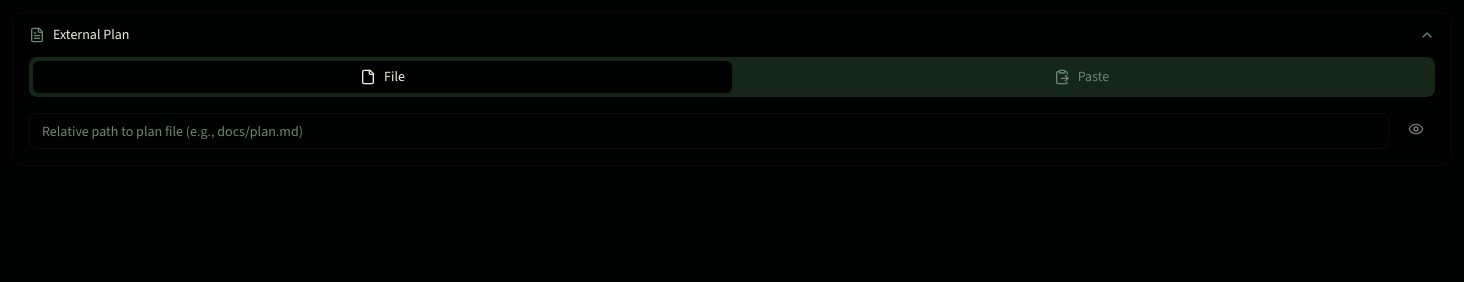
Test: PlanImportSection › file preview (text input fallback) › clears preview and error when file path changes
// First, get a preview
Type "docs/plan.md" into the field with placeholder "Relative path to plan file (e.g., docs/plan.md)" at [709, 131], box top-left (29, 113), bottom-right (1389, 149)
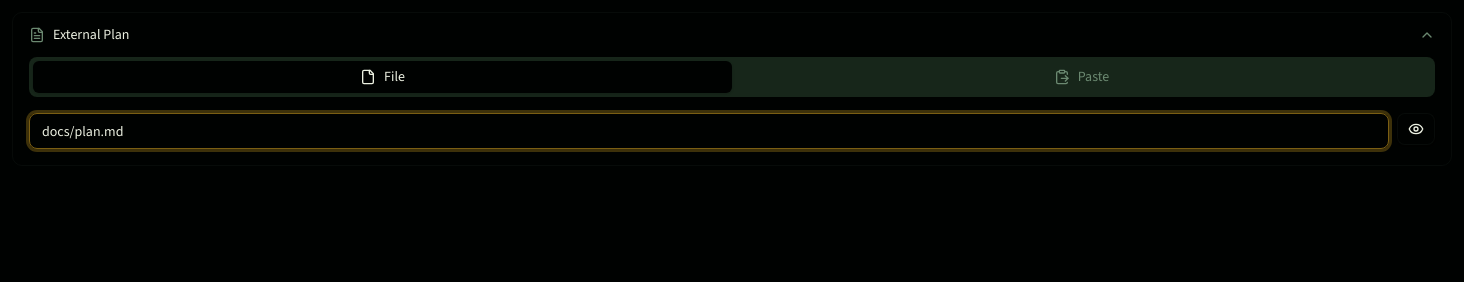
Click the button named "preview" at [1416, 129], box top-left (1397, 113), bottom-right (1435, 145)
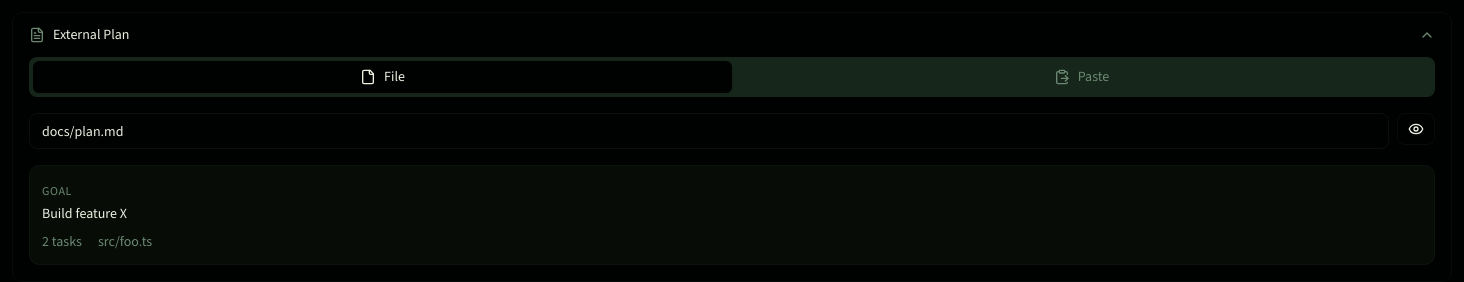
Check: the element with test id "plan-preview" is shown, box top-left (29, 165), bottom-right (1435, 265)
// Change path — preview should clear
Type "-v2" into the field with placeholder "Relative path to plan file (e.g., docs/plan.md)" at [709, 131], box top-left (29, 113), bottom-right (1389, 149)
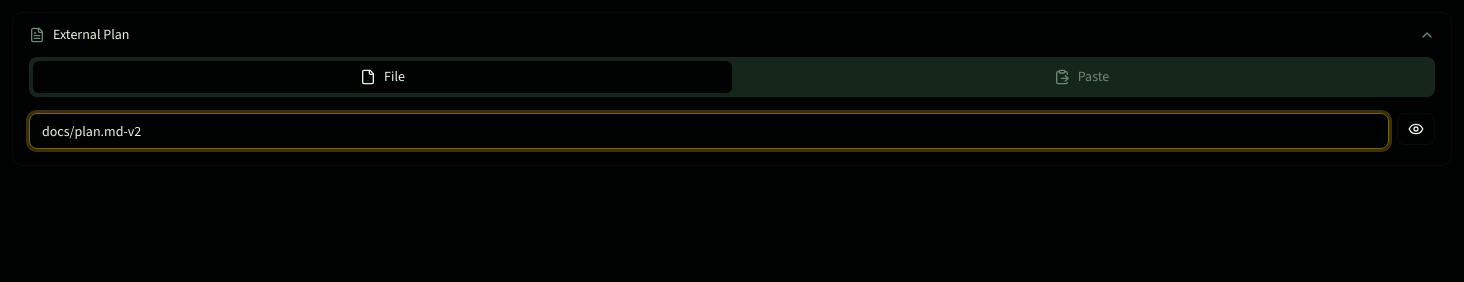
Check: the element with test id "plan-preview" is gone
